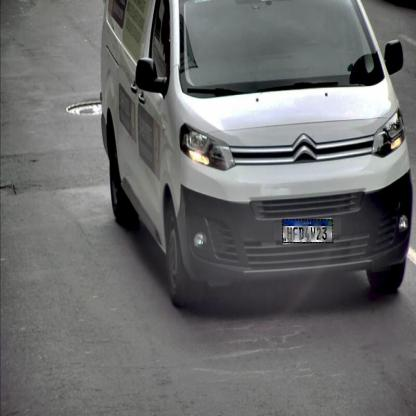PlacaM: (282, 219, 333, 243)
